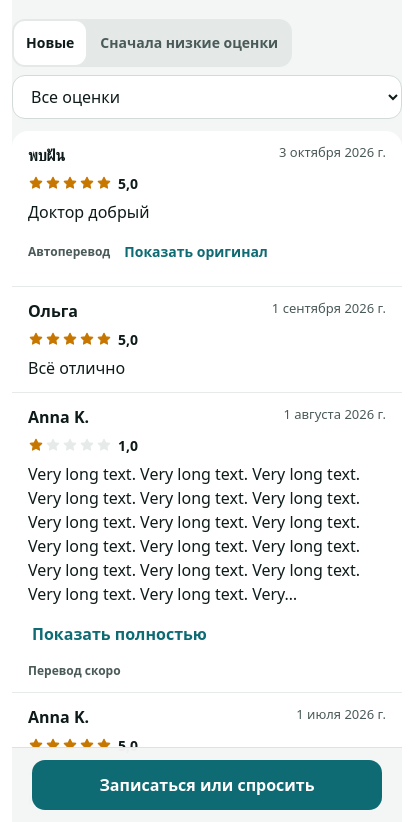
Test case: VenueScreen › collapses long texts
(page scrolled)
Expected: the text "Доктор добрый" is shown, top-left (28, 201), bottom-right (150, 223)
Expected: the text "…" is shown, top-left (28, 462), bottom-right (386, 606)
What coordinates should you click on to do the following:
click the button "Показать полностью"
I would click on:
 (207, 634)
Its box is top-left (28, 612), bottom-right (386, 656).
(page scrolled)
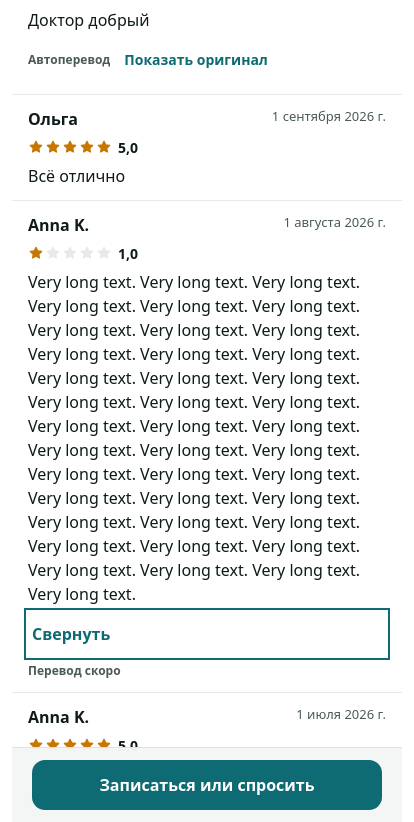
Result: the button "Свернуть" is shown at top-left (28, 612), bottom-right (386, 656)
Result: the text "…" is gone
